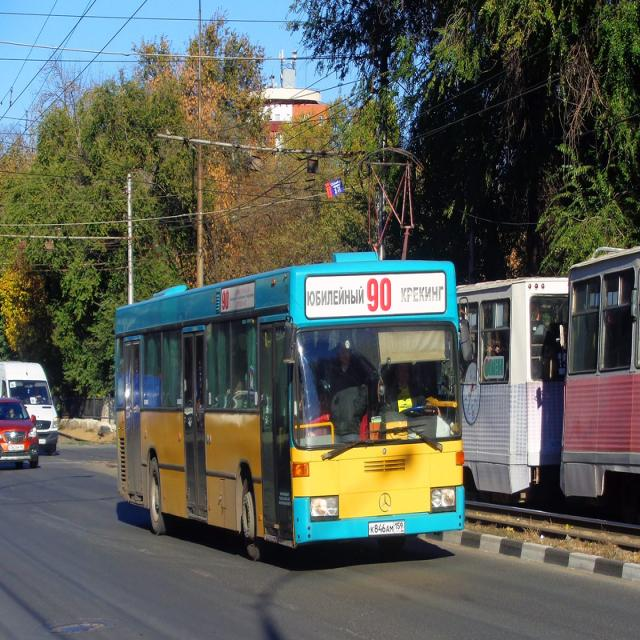number-of-bus: (365, 273, 396, 316), (221, 291, 231, 312)
